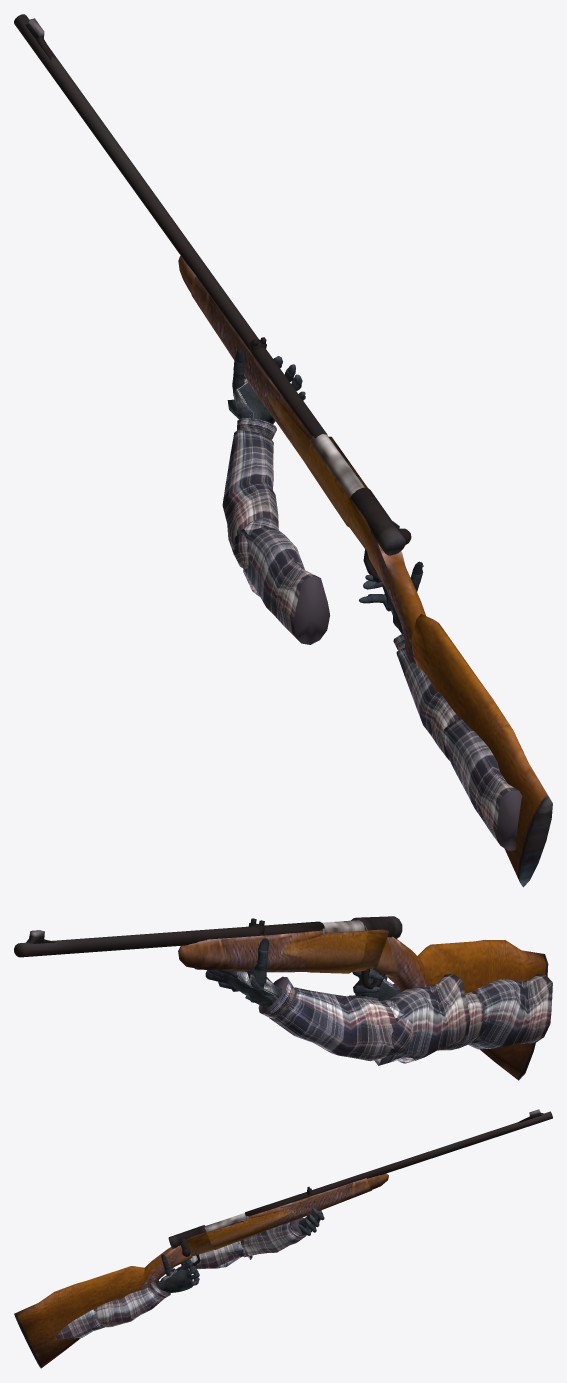
Rendered from cz550_vfire.fbx.
3 renders of one model, top to bottom at view 1: azimuth 30°, elevation 25°; view 2: azimuth 150°, elevation 25°; view 3: azimuth 270°, elevation 25°, orthographic. The views are drawn at different scales.
Parts seen in each view (by area): view 1: CZ550_stock, larm, CZ550_barrel, CZ550_grip, rupperarm, rforearm, lhand, CZ550_bolt, CZ550_breech; view 2: larm, CZ550_stock, CZ550_grip, rupperarm, CZ550_barrel, lhand, rforearm, CZ550_bolt, CZ550_breech, rhand, CZ550_Trigger, CZ550_Frontsight; view 3: CZ550_stock, CZ550_grip, CZ550_barrel, larm, rforearm, rupperarm, rhand, CZ550_bolt, lhand.
Part boxes in pixels (bbox=[...]): CZ550_stock: bbox=[367, 533, 552, 887]; larm: bbox=[222, 418, 329, 644]; CZ550_barrel: bbox=[14, 14, 327, 438]; CZ550_grip: bbox=[178, 256, 370, 551]; rupperarm: bbox=[443, 717, 522, 850]; rforearm: bbox=[393, 633, 458, 760]; lhand: bbox=[227, 349, 305, 424]; CZ550_bolt: bbox=[350, 487, 411, 555]; CZ550_breech: bbox=[310, 434, 364, 496]; larm: bbox=[258, 973, 470, 1065]; CZ550_stock: bbox=[371, 936, 548, 1080]; CZ550_grip: bbox=[178, 925, 388, 973]; rupperarm: bbox=[468, 974, 552, 1049]; CZ550_barrel: bbox=[14, 921, 324, 957]; lhand: bbox=[205, 938, 281, 1007]; rforearm: bbox=[393, 983, 485, 1050]; CZ550_bolt: bbox=[351, 916, 402, 939]; CZ550_breech: bbox=[322, 920, 364, 935]; rhand: bbox=[353, 978, 400, 1000]; CZ550_Trigger: bbox=[360, 968, 385, 989]; CZ550_Frontsight: bbox=[26, 930, 55, 944]; CZ550_stock: bbox=[14, 1245, 192, 1368]; CZ550_grip: bbox=[185, 1173, 388, 1256]; CZ550_barrel: bbox=[245, 1111, 552, 1216]; larm: bbox=[181, 1217, 306, 1269]; rforearm: bbox=[93, 1281, 170, 1327]; rupperarm: bbox=[53, 1309, 104, 1340]; rhand: bbox=[155, 1268, 192, 1293]; CZ550_bolt: bbox=[168, 1225, 205, 1256]; lhand: bbox=[298, 1207, 324, 1235].
Size of the model in its own units: 11.13 by 39.54 by 74.62.
Materials: 3 (3 with a texture image).
